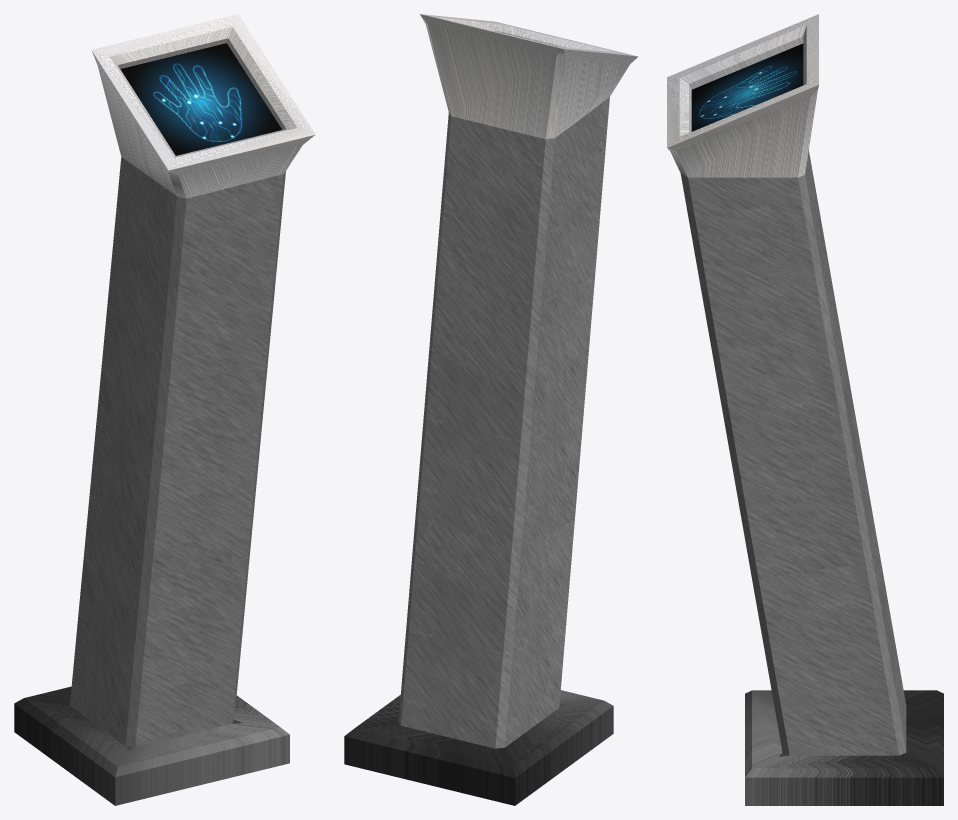
File: HandScanner.fbx
3 renders of one model, left to right at view 1: azimuth 30°, elevation 25°; view 2: azimuth 150°, elevation 25°; view 3: azimuth 270°, elevation 25°, orthographic. The views are drawn at different scales.
Parts seen in each view (by area): view 1: pCube1; view 2: pCube1; view 3: pCube1.
Boxes of the visible parts, <box> form: pCube1: <box>14,14,315,805</box>; pCube1: <box>344,14,638,805</box>; pCube1: <box>667,14,943,805</box>.
Bounding box in the file's own units: 1.61 × 6.36 × 2.23.
1 material, 1 textured.
